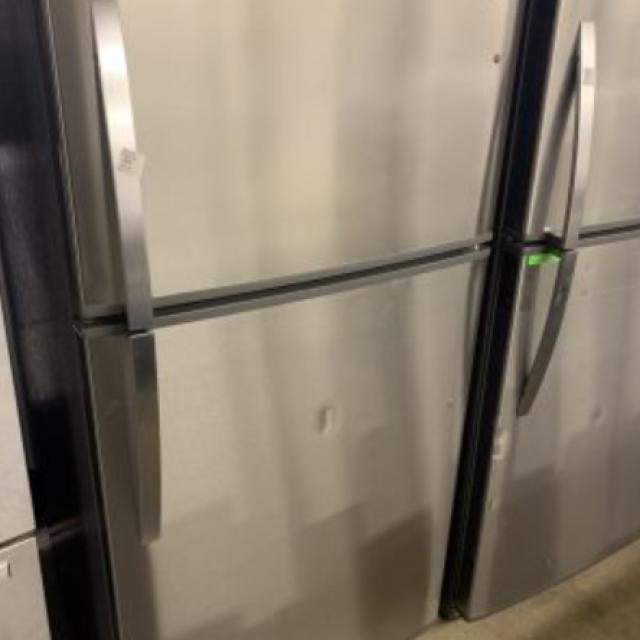dents: (296, 400, 355, 446), (579, 407, 623, 448)
